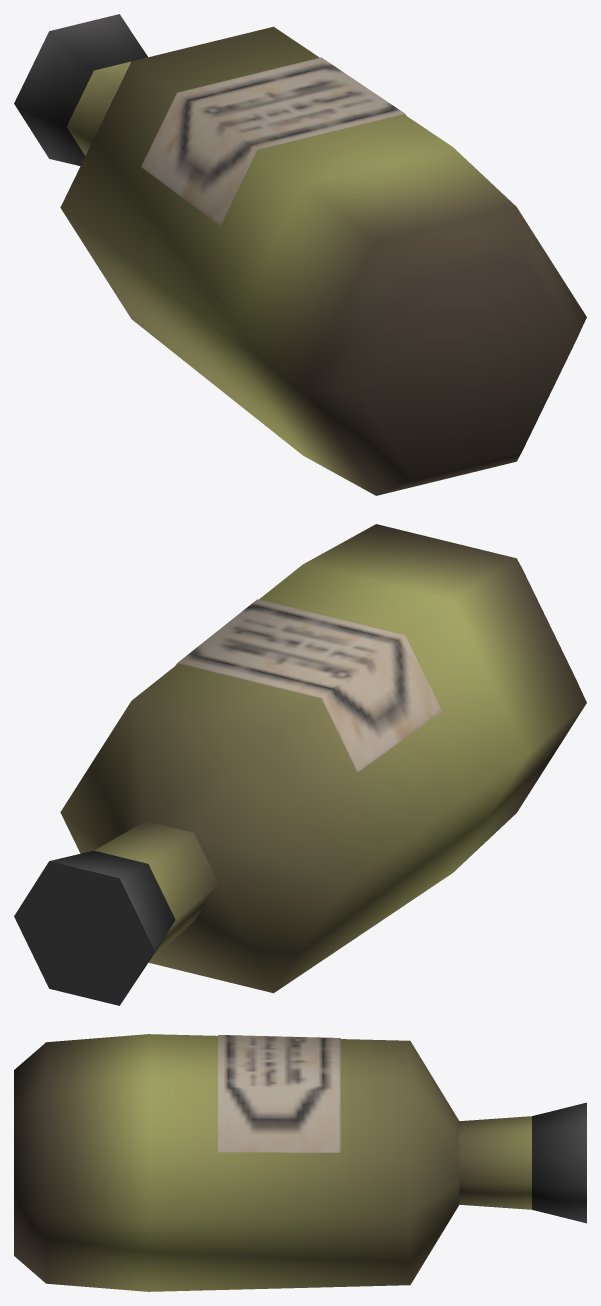
File: Bottle_F.fbx
3 renders of one model, top to bottom at view 1: azimuth 30°, elevation 25°; view 2: azimuth 150°, elevation 25°; view 3: azimuth 270°, elevation 25°, orthographic. The views are drawn at different scales.
Visible parts, largest first — view 1: Bottle_F; view 2: Bottle_F; view 3: Bottle_F.
Boxes of the visible parts, x1,y1,x2,y2 form: Bottle_F: (14,14,586,495); Bottle_F: (14,524,586,1005); Bottle_F: (14,1034,586,1291).
Bounding box in the file's own units: 0.2537 × 0.2197 × 0.5617.
